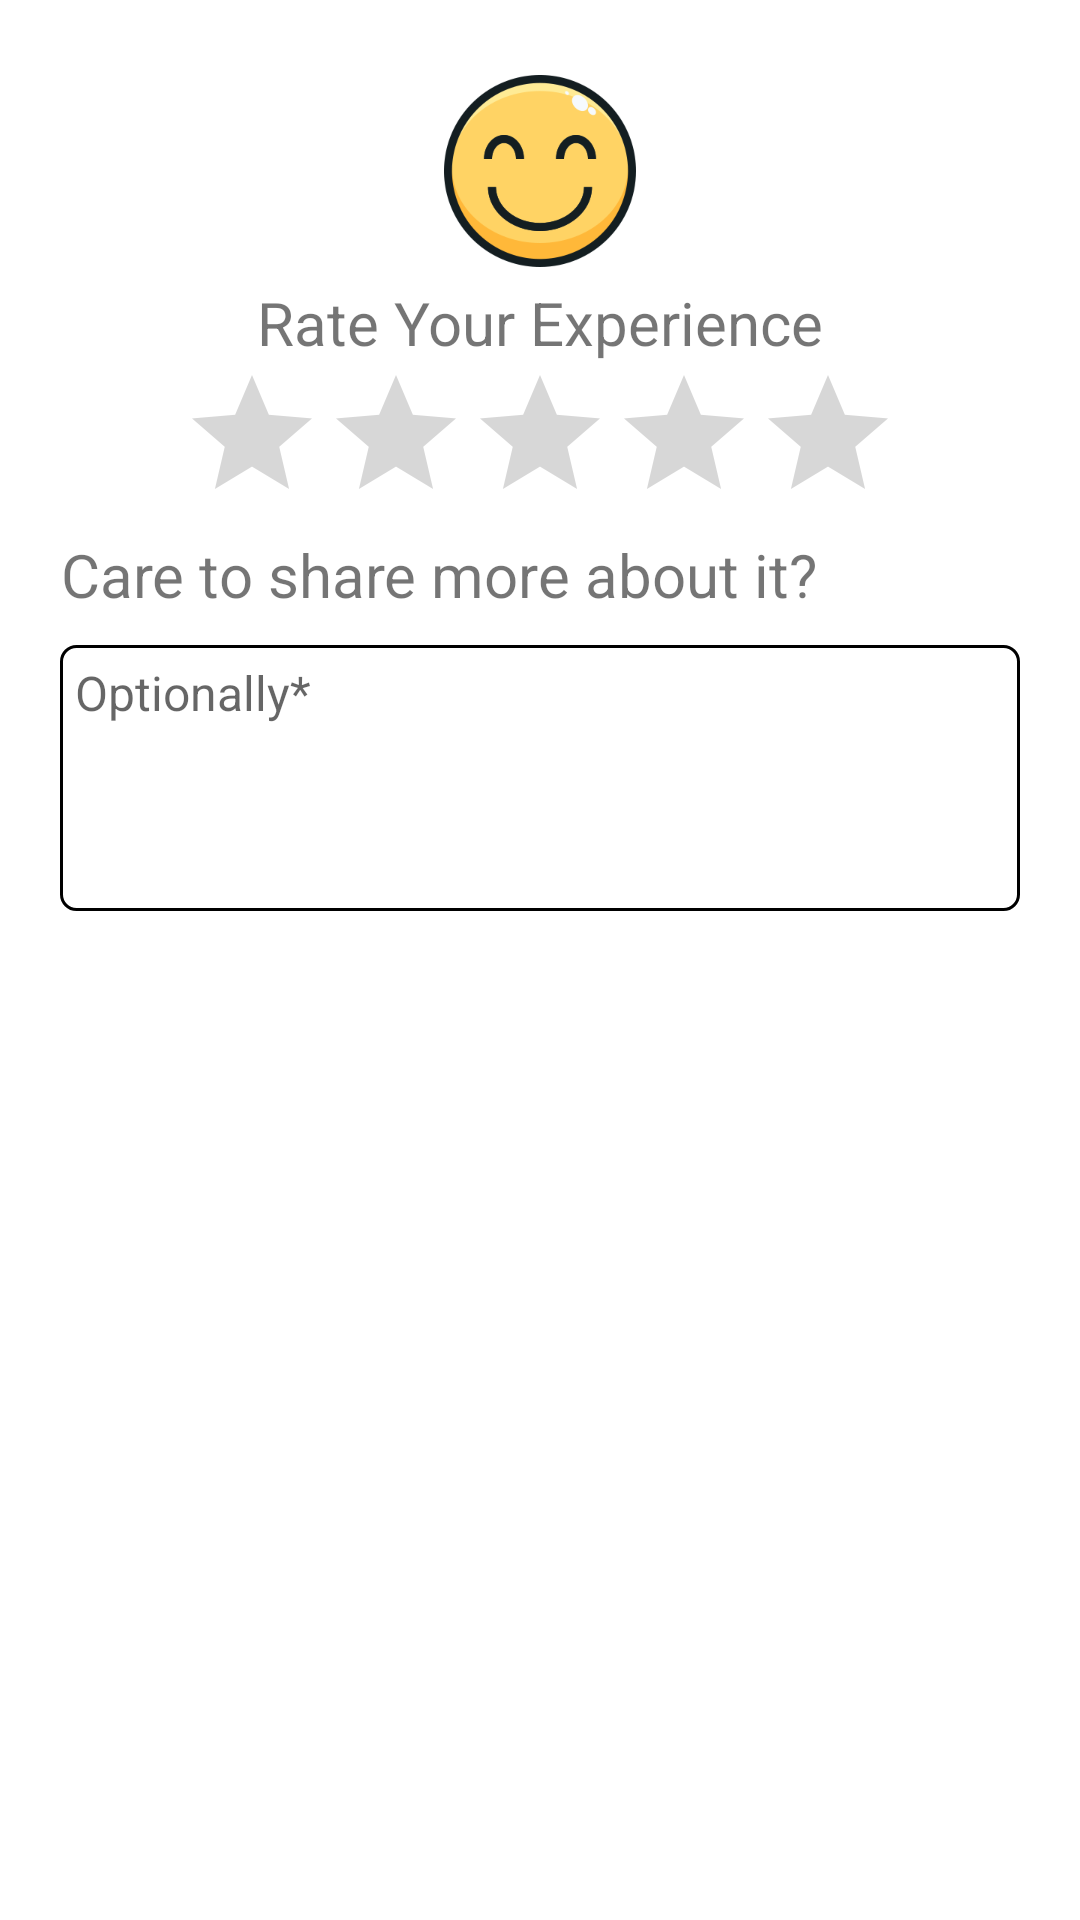

Icons on this 1080px×1920px Android screen, each with the point to tap as [x,y]:
smile: [540,171]
